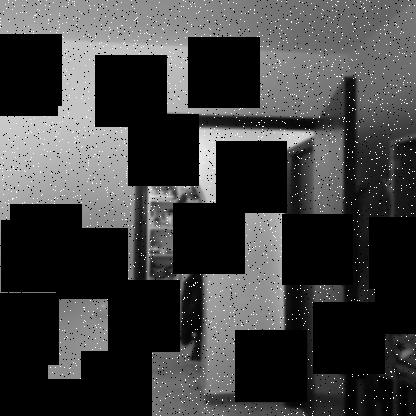Porte: (129, 74, 380, 416)
